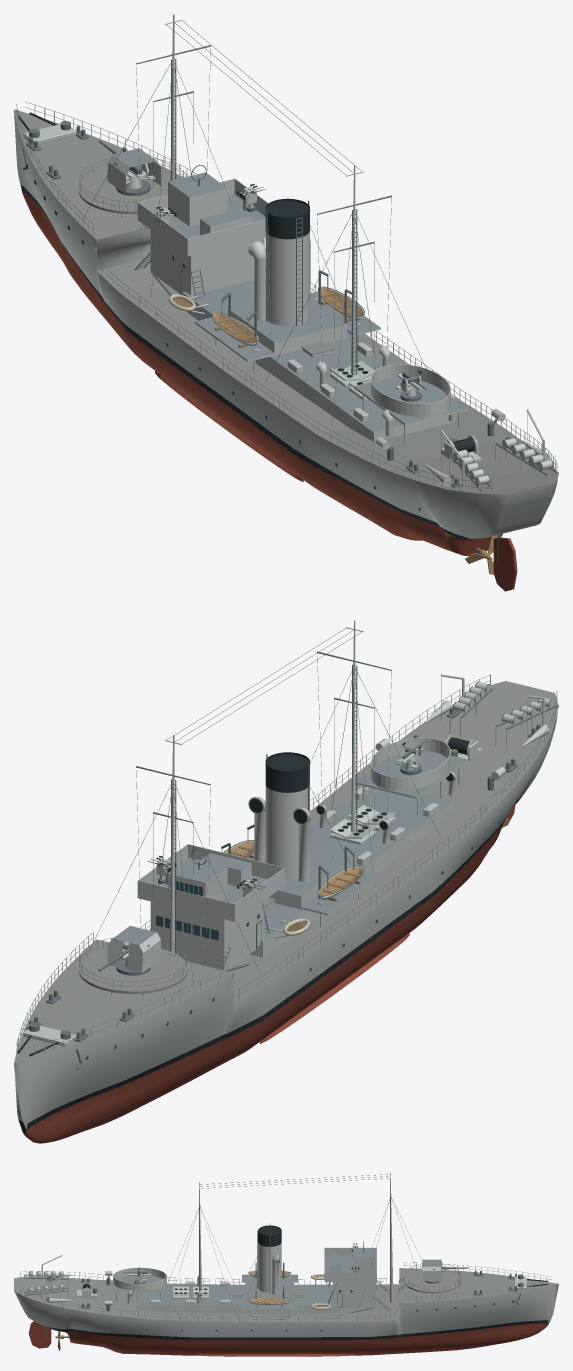
File: flower-corvette.glb
3 renders of one model, top to bottom at view 1: azimuth 30°, elevation 25°; view 2: azimuth 150°, elevation 25°; view 3: azimuth 270°, elevation 25°, orthographic. The views are drawn at different scales.
Visible parts, largest first — view 1: hull.surface, aft-casing.mesh, funnel.mesh, bridge-house.mesh, bridge-wings.mesh, deck-rails.mesh, funnel-casing.mesh, wheelhouse.mesh, aft-bandstand-shield.mesh, fore-gun-platform.mesh, escort-dinghies.mesh, aft-bandstand.mesh (+13 smaller); view 2: hull.surface, aft-casing.mesh, bridge-house.mesh, funnel.mesh, bridge-wings.mesh, deck-rails.mesh, fore-gun-platform.mesh, aft-bandstand-shield.mesh, aft-bandstand.mesh, boiler-vents.mesh, fore-4in.yaw.mesh, wheelhouse.mesh (+15 smaller); view 3: hull.surface, aft-casing.mesh, deck-rails.mesh, funnel.mesh, bridge-house.mesh, bridge-wings.mesh, fore-gun-platform.mesh, aft-bandstand-shield.mesh, funnel-casing.mesh, wheelhouse.mesh, depth-racks.mesh, escort-dinghies.mesh (+14 smaller).
Boxes of the visible parts, x1,y1,x2,y2 form: hull.surface: (14,109,557,555); aft-casing.mesh: (182,280,454,441); funnel.mesh: (265,198,349,340); bridge-house.mesh: (150,230,264,299); bridge-wings.mesh: (137,178,268,256); deck-rails.mesh: (16,101,557,493); funnel-casing.mesh: (228,298,347,355); wheelhouse.mesh: (168,172,227,226); aft-bandstand-shield.mesh: (371,364,450,417); fore-gun-platform.mesh: (78,168,181,217); escort-dinghies.mesh: (212,270,364,347); aft-bandstand.mesh: (354,377,467,443); hull.surface: (14,681,557,1143); aft-casing.mesh: (250,787,454,957); bridge-house.mesh: (150,900,264,971); funnel.mesh: (265,752,349,879); bridge-wings.mesh: (137,844,284,921); deck-rails.mesh: (16,674,557,1056); fore-gun-platform.mesh: (78,948,187,996); aft-bandstand-shield.mesh: (371,737,450,790); aft-bandstand.mesh: (355,751,467,815); boiler-vents.mesh: (248,797,310,882); fore-4in.yaw.mesh: (107,926,160,973); wheelhouse.mesh: (168,858,227,900); hull.surface: (14,1268,558,1355); aft-casing.mesh: (136,1284,338,1314); deck-rails.mesh: (20,1262,551,1321); funnel.mesh: (246,1224,281,1296); bridge-house.mesh: (333,1282,376,1312); bridge-wings.mesh: (324,1247,376,1281); fore-gun-platform.mesh: (404,1268,461,1294); aft-bandstand-shield.mesh: (113,1267,166,1290); funnel-casing.mesh: (245,1278,294,1301); wheelhouse.mesh: (353,1248,376,1272); depth-racks.mesh: (24,1271,68,1299); escort-dinghies.mesh: (248,1262,291,1307).
Size of the model in its own units: 10.06 by 22.51 by 62.48.
17 materials, 12 textured.
